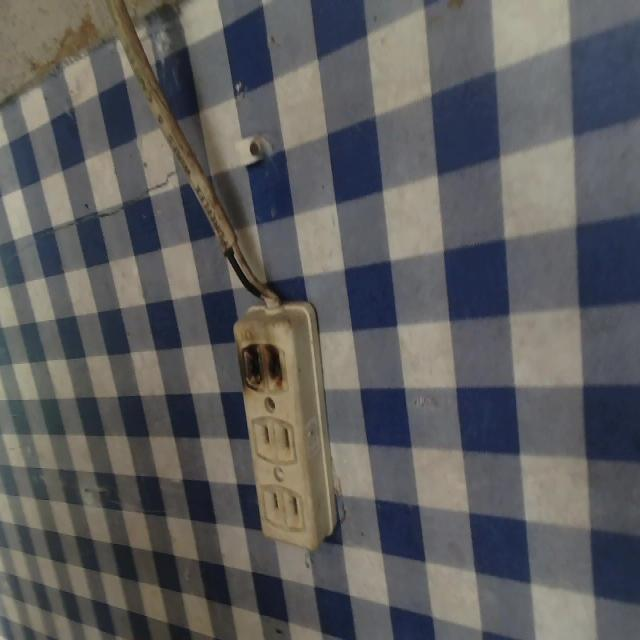-: (231, 334, 290, 402)
